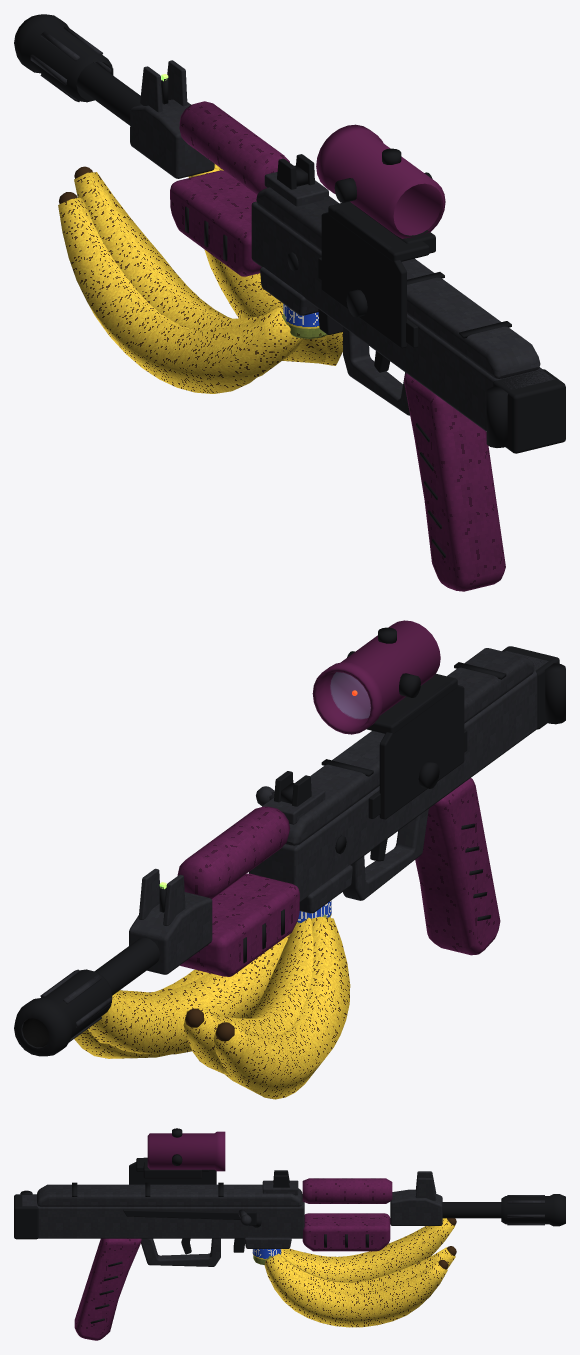
Rendered from w_banana_bunch.glb.
3 renders of one model, top to bottom at view 1: azimuth 30°, elevation 25°; view 2: azimuth 150°, elevation 25°; view 3: azimuth 270°, elevation 25°, orthographic. The views are drawn at different scales.
Parts seen in each view (by area): view 1: bunch_body_wzA, bunch_body_wzB; view 2: bunch_body_wzA, bunch_body_wzB, bunch_body_wzN; view 3: bunch_body_wzA, bunch_body_wzB.
Boxes of the visible parts, bbox=[...] form: bunch_body_wzA: bbox=[30, 26, 554, 591]; bunch_body_wzB: bbox=[14, 14, 565, 557]; bunch_body_wzA: bbox=[40, 620, 548, 1042]; bunch_body_wzB: bbox=[14, 627, 565, 1099]; bunch_body_wzN: bbox=[22, 672, 370, 1047]; bunch_body_wzA: bbox=[22, 1131, 544, 1340]; bunch_body_wzB: bbox=[14, 1128, 565, 1327].
Size of the model in its own units: 0.1378 by 0.2387 by 0.5808.
12 materials, 5 textured.
